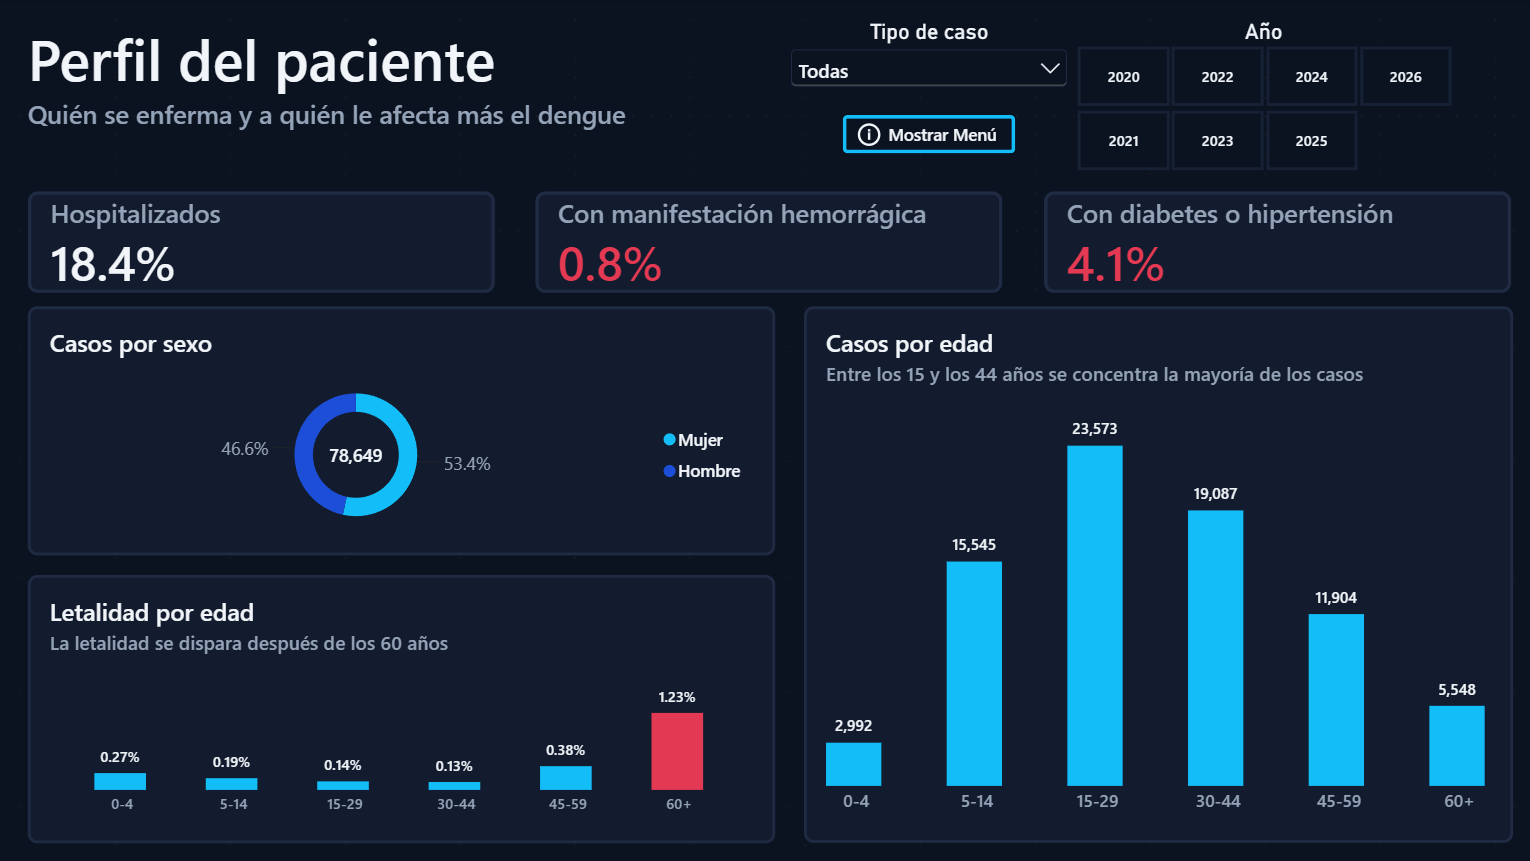

The dashboard page shown, as its layout file describes it:
{"tool":"powerbi","page":{"name":"Perfil del Paciente","canvas":[1280,720],"ordinal":3},"visuals":[{"type":"textbox","box":[24,16,610,70],"z":0},{"type":"textbox","box":[24,80,610,78],"z":1000},{"type":"slicer","title":"Año","fields":{"Values":["dim_fecha.Date.Variation.Jerarquía de fechas.Año"]},"box":[880,16,352,128],"z":2000},{"type":"slicer","title":"Tipo de caso","fields":{"Values":["dim_estatus.descripcion"]},"box":[656,16,240,64],"z":3000},{"type":"cardVisual","fields":{"Data":["_Measures.% Hospitalizados"]},"box":[24,160.1,390,85],"z":4000},{"type":"cardVisual","title":"Mun","fields":{"Data":["_Measures.% Con Hemorrágicos"]},"box":[448,160,390,85],"z":5000},{"type":"cardVisual","fields":{"Data":["_Measures.% con Comorbilidad"]},"box":[872,160,390,85],"z":6000},{"type":"columnChart","title":"Casos por edad","fields":{"Category":["fact_casos.Grupo Edad"],"Y":["_Measures.Casos"]},"box":[672,256,592,448],"z":7000},{"type":"donutChart","title":"Casos por sexo","fields":{"Category":["dim_sexo.descripcion"],"Y":["_Measures.Casos"]},"box":[24,256,624,208],"z":8000},{"type":"columnChart","title":"Letalidad por edad","fields":{"Category":["fact_casos.Grupo Edad"],"Y":["_Measures.Letalidad %"]},"box":[24,480,624,224],"z":9000},{"type":"actionButton","title":"Menú","box":[704,96,144,32],"z":9001}]}

Visuals, with their boxes in screenshot pixels (x1, y1, x2, y2), scaled from the page's 1280x720 canvas onto the 1530x861 screenshot:
textbox: box=[29, 19, 758, 103]
textbox: box=[29, 96, 758, 189]
"Año" slicer: box=[1052, 19, 1473, 172]
"Tipo de caso" slicer: box=[784, 19, 1071, 96]
cardVisual - _Measures.% Hospitalizados: box=[29, 191, 495, 293]
"Mun" cardVisual: box=[536, 191, 1002, 293]
cardVisual - _Measures.% con Comorbilidad: box=[1042, 191, 1508, 293]
"Casos por edad" columnChart: box=[803, 306, 1511, 842]
"Casos por sexo" donutChart: box=[29, 306, 775, 555]
"Letalidad por edad" columnChart: box=[29, 574, 775, 842]
"Menú" actionButton: box=[842, 115, 1014, 153]
